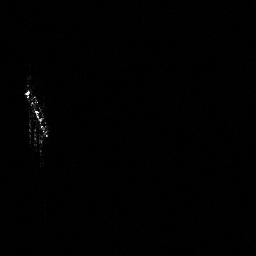ship: (20, 81, 53, 160)
